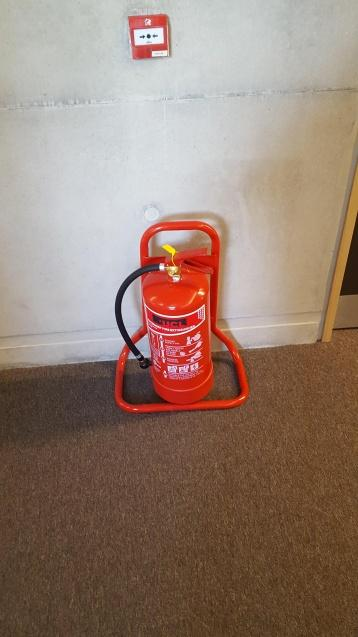APAR: (141, 247, 216, 404)
